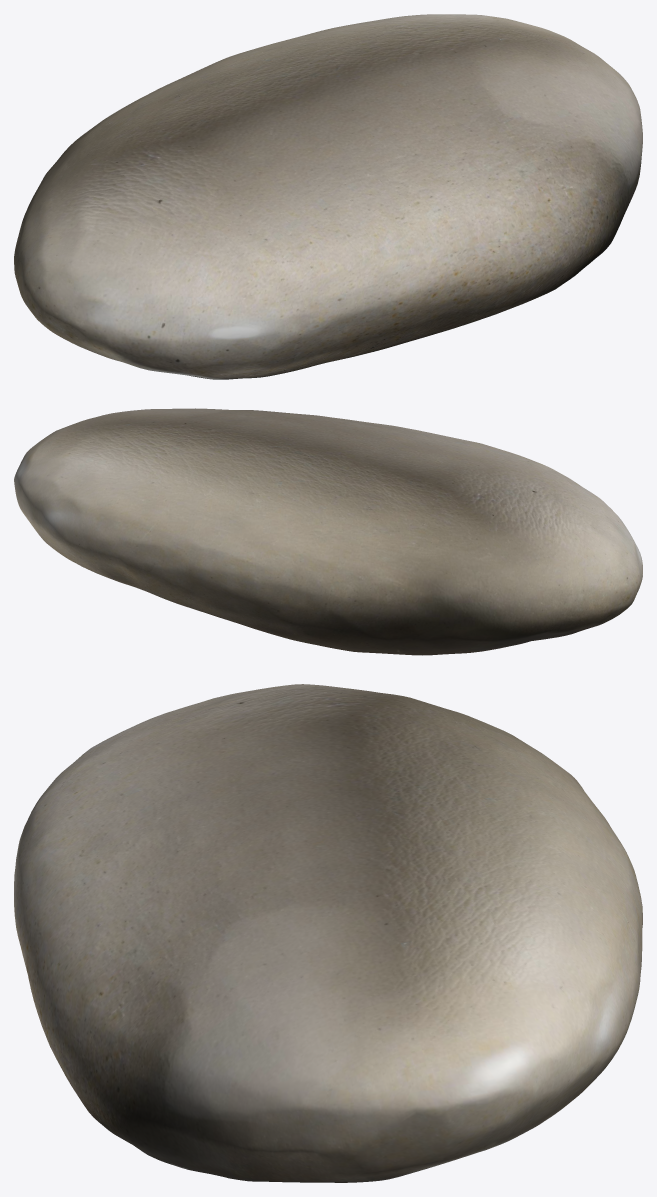
3 renders of one model, top to bottom at view 1: azimuth 30°, elevation 25°; view 2: azimuth 150°, elevation 25°; view 3: azimuth 270°, elevation 25°, orthographic. The views are drawn at different scales.
Visible parts, largest first — view 1: Mesh1.0; view 2: Mesh1.0; view 3: Mesh1.0.
Boxes of the visible parts, x1,y1,x2,y2 form: Mesh1.0: (14,14,642,379); Mesh1.0: (14,408,642,655); Mesh1.0: (14,684,642,1182).
Bounding box in the file's own units: 200 × 61.91 × 125.
Materials: 1 (1 with a texture image).
